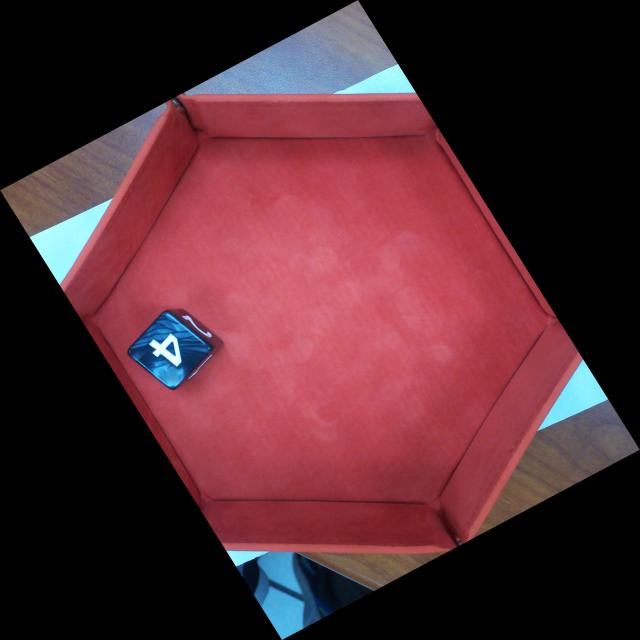dice: (131, 308, 218, 392)
